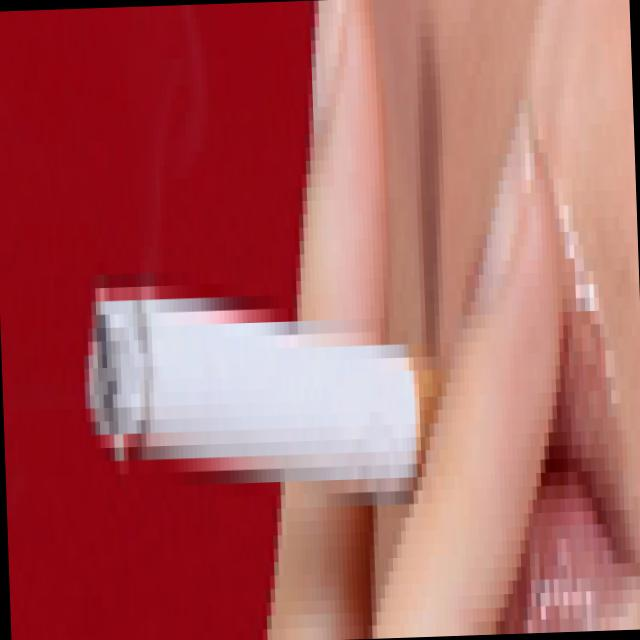smoke: (89, 262, 419, 477)
